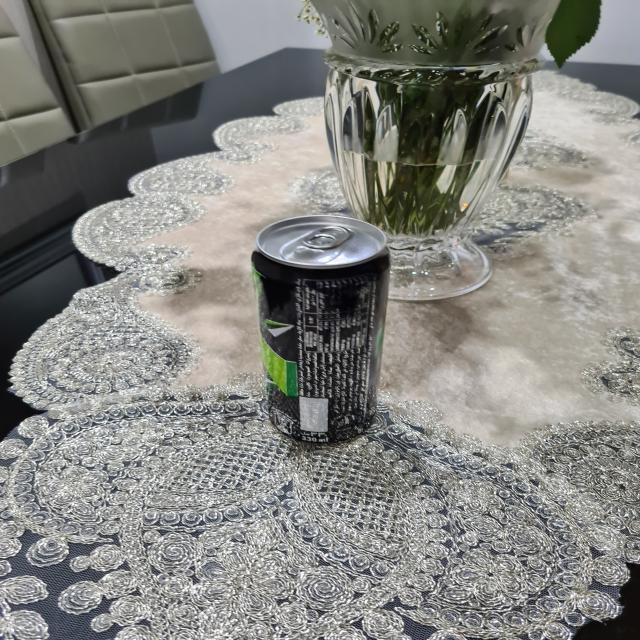non-organic waste: (244, 212, 394, 454)
